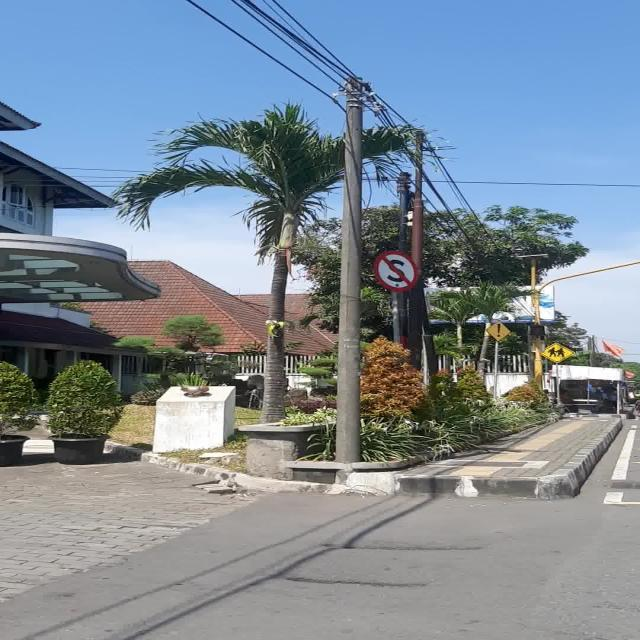Dilarang Berhenti: (374, 251, 417, 291)
